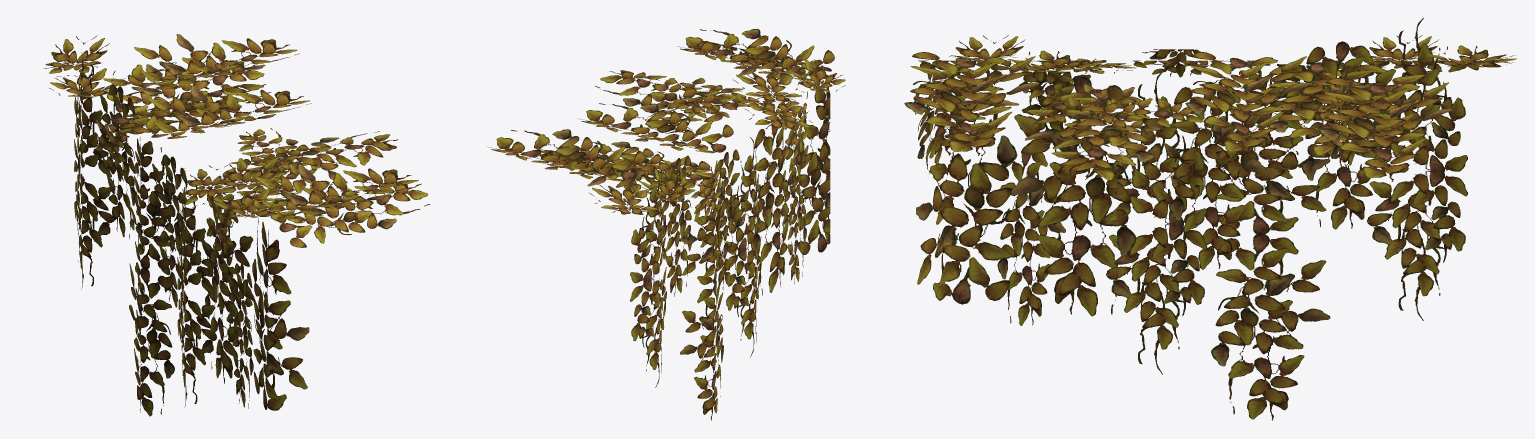
Rendered from huangyediaoteng_40.FBX.
3 views of the same model, side by side, from view 1: azimuth 30°, elevation 25°; view 2: azimuth 150°, elevation 25°; view 3: azimuth 270°, elevation 25° (orthographic). The views are drawn at different scales.
Visible parts, largest first — view 1: huangyediaoteng_40; view 2: huangyediaoteng_40; view 3: huangyediaoteng_40.
Boxes of the visible parts, x1=… form: huangyediaoteng_40: x1=43, y1=34, x2=430, y2=416; huangyediaoteng_40: x1=487, y1=29, x2=845, y2=420; huangyediaoteng_40: x1=904, y1=18, x2=1516, y2=420.
Bounding box in the file's own units: 151 × 187 × 256.
